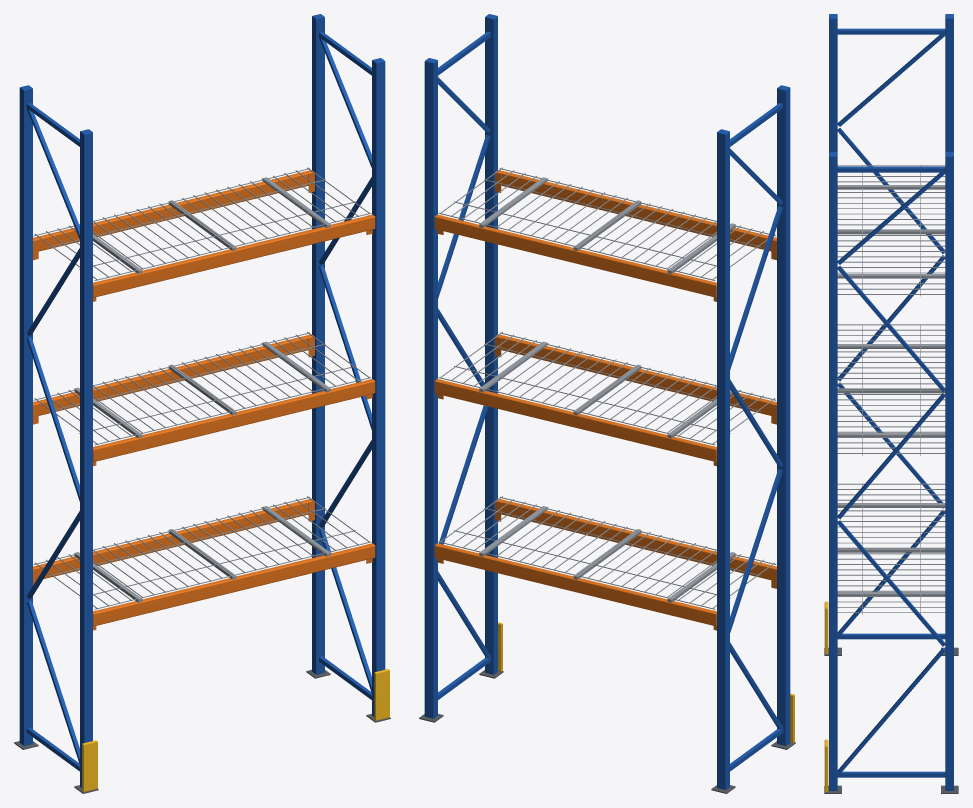
The model's file is rack_bay.glb.
The picture shows the model from 3 angles, left to right: view 1: azimuth 30°, elevation 25°; view 2: azimuth 150°, elevation 25°; view 3: azimuth 270°, elevation 25°; orthographic projection. The views are drawn at different scales.
Parts seen in each view (by area): view 1: upright_frame_R_geo, upright_frame_L_geo, beam_level_3_geo, beam_level_2_geo, beam_level_1_geo; view 2: upright_frame_R_geo, upright_frame_L_geo, beam_level_3_geo, beam_level_1_geo, beam_level_2_geo; view 3: upright_frame_L_geo, upright_frame_R_geo, beam_level_2_geo, beam_level_1_geo, beam_level_3_geo.
Boxes of the visible parts, x1=… form: upright_frame_R_geo: x1=14, y1=85, x2=98, y2=793; upright_frame_L_geo: x1=306, y1=14, x2=390, y2=722; beam_level_3_geo: x1=33, y1=167, x2=375, y2=301; beam_level_2_geo: x1=33, y1=331, x2=375, y2=466; beam_level_1_geo: x1=33, y1=496, x2=375, y2=630; upright_frame_R_geo: x1=711, y1=85, x2=795, y2=793; upright_frame_L_geo: x1=419, y1=14, x2=503, y2=722; beam_level_3_geo: x1=434, y1=167, x2=776, y2=301; beam_level_1_geo: x1=434, y1=496, x2=776, y2=630; beam_level_2_geo: x1=434, y1=331, x2=776, y2=466; upright_frame_L_geo: x1=824, y1=152, x2=958, y2=793; upright_frame_R_geo: x1=824, y1=14, x2=958, y2=655; beam_level_2_geo: x1=837, y1=324, x2=945, y2=455; beam_level_1_geo: x1=837, y1=483, x2=945, y2=614; beam_level_3_geo: x1=837, y1=165, x2=945, y2=296.
Bounding box in the file's own units: 2.94 × 6 × 1.14.
